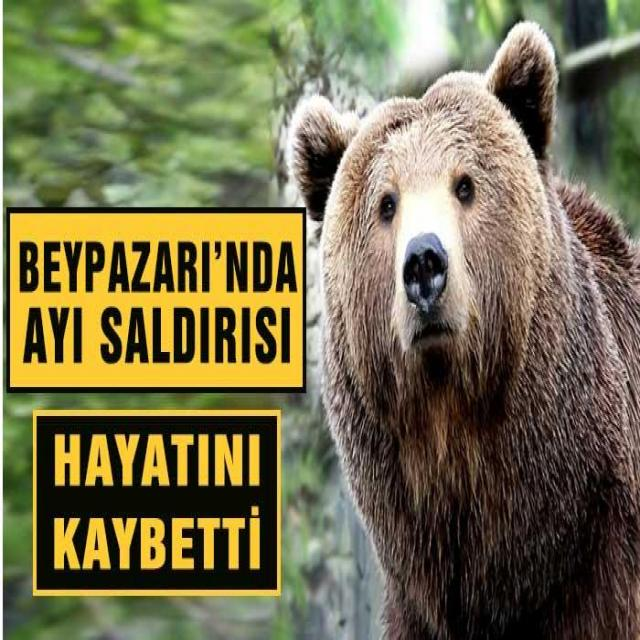Bear: (283, 21, 640, 640)
